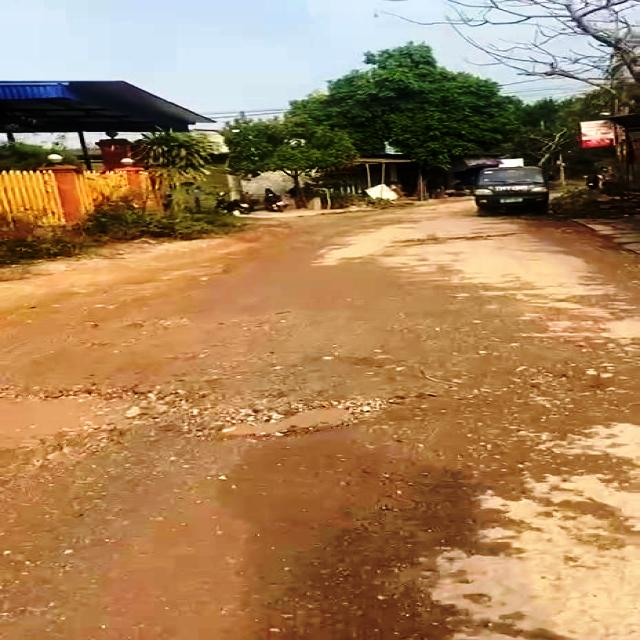pothole: (0, 385, 154, 451), (201, 399, 378, 439)
